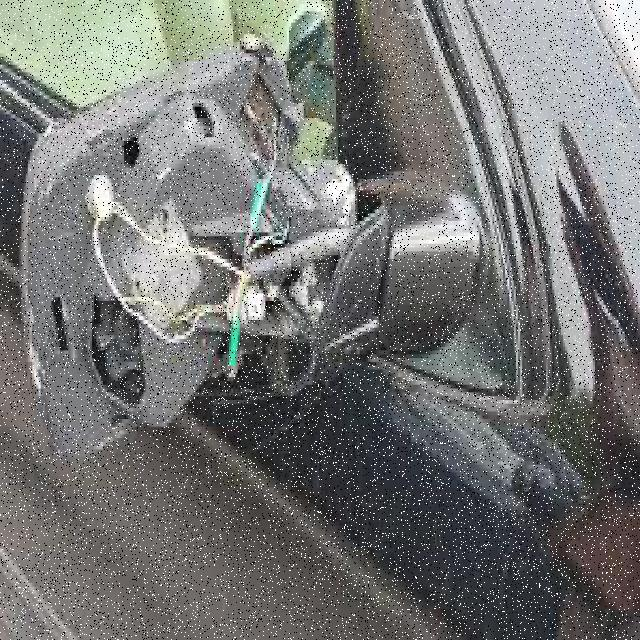Sidemirror-Damage: (25, 30, 393, 464)
